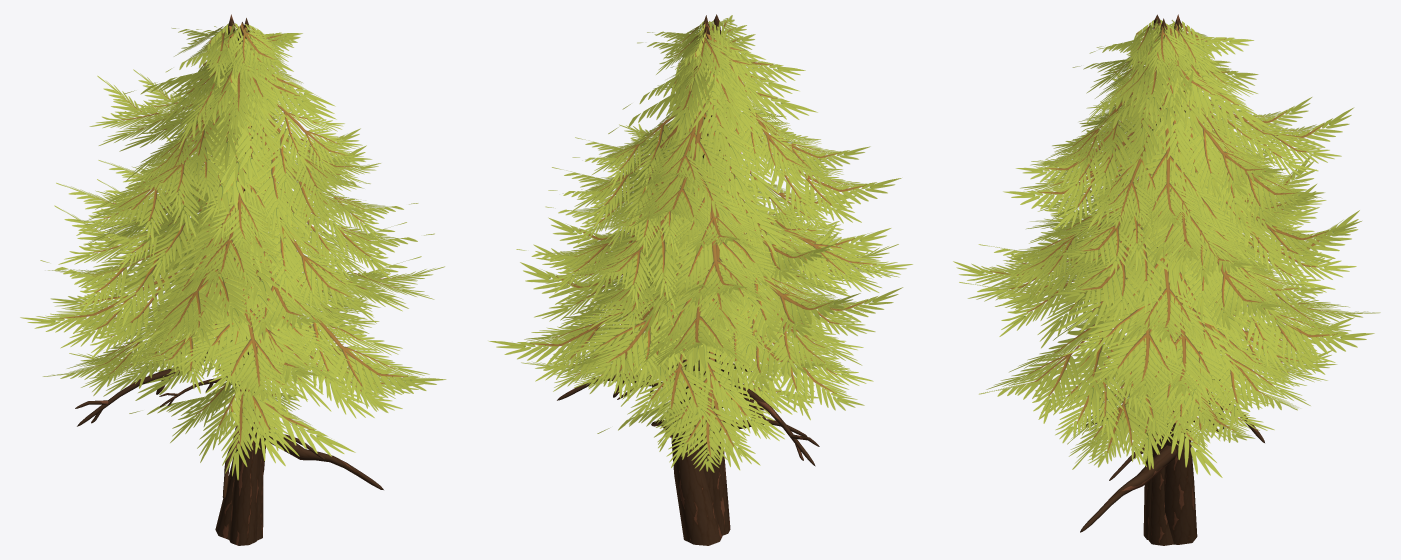
The model's file is midnight-spruce-trees-quaternius-export.glb.
3 views of the same model, side by side, from view 1: azimuth 30°, elevation 25°; view 2: azimuth 150°, elevation 25°; view 3: azimuth 270°, elevation 25° (orthographic).
Visible parts, largest first — view 1: Spruce2.008, Spruce0.009, Spruce1.009; view 2: Spruce1.009, Spruce2.008, Spruce0.009; view 3: Spruce1.009, Spruce0.009, Spruce2.008.
Boxes of the visible parts, box(x1,y1,x2,y2) form: Spruce2.008: box(20, 22, 444, 545); Spruce0.009: box(50, 18, 446, 540); Spruce1.009: box(40, 14, 434, 539); Spruce1.009: box(516, 22, 901, 545); Spruce2.008: box(521, 14, 912, 535); Spruce0.009: box(489, 15, 903, 503); Spruce1.009: box(959, 14, 1374, 544); Spruce0.009: box(978, 18, 1354, 545); Spruce2.008: box(953, 14, 1380, 539).
Bounding box in the file's own units: 0.7691 × 1 × 0.764.
2 materials, 2 textured.
